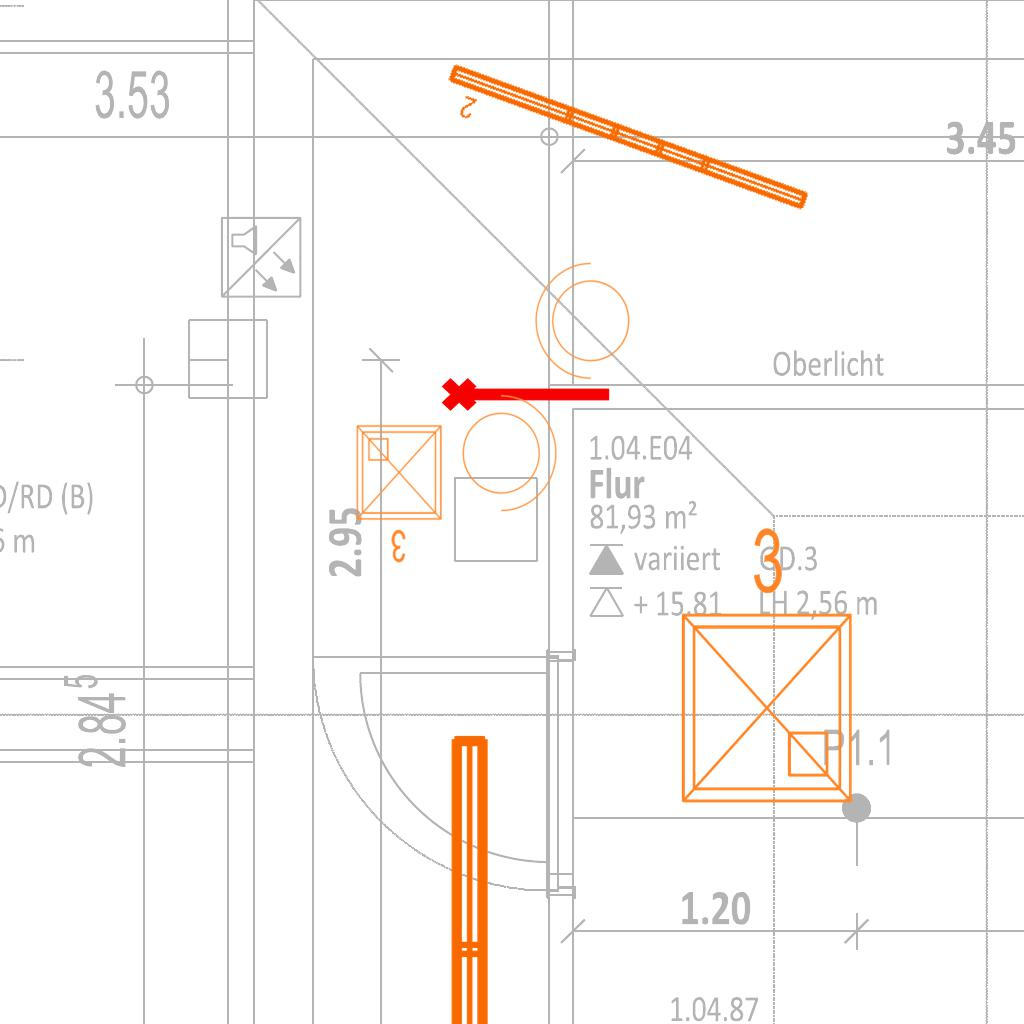ASR_Ansaugoeffnung: (439, 369, 615, 415)
Ambulanz_Pendelleuchte_LED: (433, 56, 816, 242), (439, 725, 551, 1024)
Einbaudownlights_LED_Konferenzraeume: (659, 517, 867, 817), (349, 418, 453, 568)
Scheinwerfer_fuer_Alarmbeleuchtung: (530, 258, 642, 390), (450, 384, 562, 516)
